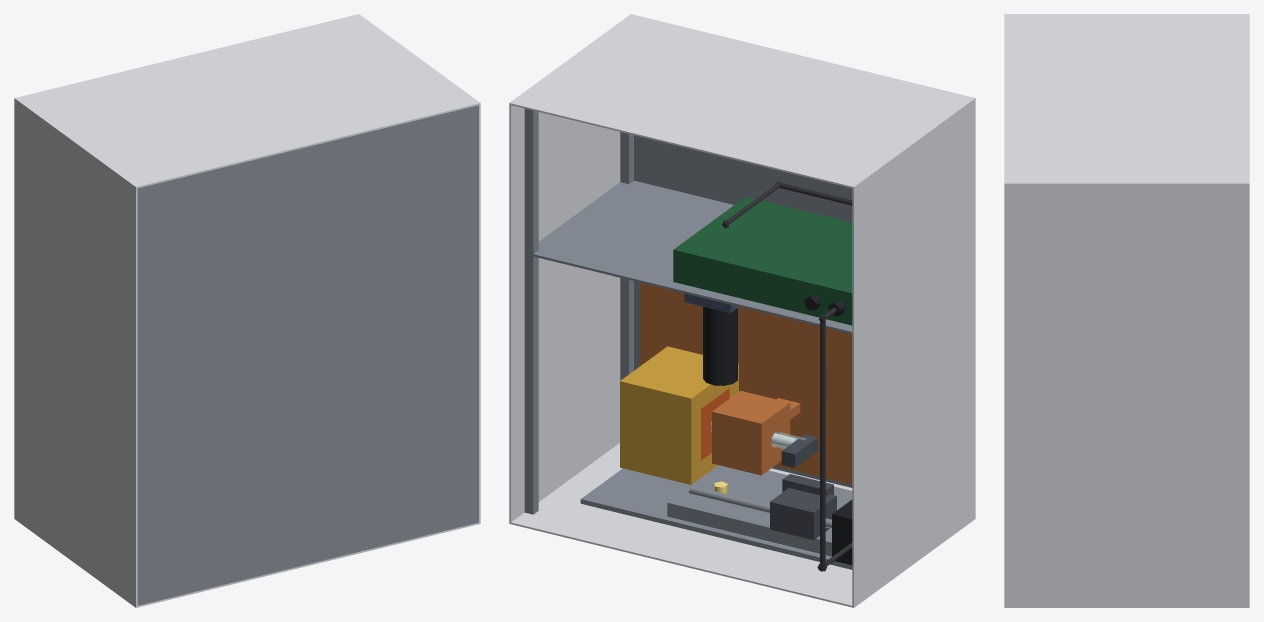
The model's file is MOD-alloy-solidification.glb.
3 views of the same model, side by side, from view 1: azimuth 30°, elevation 25°; view 2: azimuth 150°, elevation 25°; view 3: azimuth 270°, elevation 25° (orthographic).
Parts seen in each view (by area): view 1: housing__back_panel_bay_interface, housing__side_panel_L, housing__top_panel, housing__bottom_panel, housing__side_panel_R; view 2: housing__side_panel_L, housing__top_panel, housing__side_panel_R, thermal__cold_wall_to_the_bay_s_thermoelectric_block, electronics__controller_enclosure_boards_data_storage, housing__bottom_panel, housing__shelf_1, experiment__aerogel_and_MLI_jacket_round_the_hot_block, housing__back_panel_bay_interface, experiment__furnace_base_plate, housing__corner_post_4, experiment__cold_zone_copper_block (+9 smaller); view 3: housing__side_panel_R, housing__top_panel, housing__bottom_panel.
Boxes of the visible parts, left/top/right/bottom form: housing__back_panel_bay_interface: left=137, top=105, right=478, bottom=605; housing__side_panel_L: left=14, top=100, right=137, bottom=605; housing__top_panel: left=14, top=14, right=480, bottom=188; housing__bottom_panel: left=14, top=517, right=480, bottom=607; housing__side_panel_R: left=479, top=105, right=480, bottom=522; housing__side_panel_L: left=852, top=100, right=975, bottom=605; housing__top_panel: left=509, top=14, right=975, bottom=188; housing__side_panel_R: left=509, top=105, right=620, bottom=522; thermal__cold_wall_to_the_bay_s_thermoelectric_block: left=640, top=282, right=852, bottom=484; electronics__controller_enclosure_boards_data_storage: left=673, top=197, right=852, bottom=325; housing__bottom_panel: left=509, top=443, right=975, bottom=607; housing__shelf_1: left=524, top=180, right=852, bottom=334; experiment__aerogel_and_MLI_jacket_round_the_hot_block: left=620, top=346, right=738, bottom=484; housing__back_panel_bay_interface: left=634, top=135, right=852, bottom=487; experiment__furnace_base_plate: left=580, top=465, right=852, bottom=569; housing__corner_post_4: left=524, top=108, right=538, bottom=514; experiment__cold_zone_copper_block: left=712, top=390, right=790, bottom=475; housing__side_panel_R: left=1004, top=185, right=1249, bottom=606; housing__top_panel: left=1004, top=14, right=1249, bottom=185; housing__bottom_panel: left=1004, top=606, right=1249, bottom=607.
Size of the model in its own units: 0.313 by 0.3652 by 0.1913.
